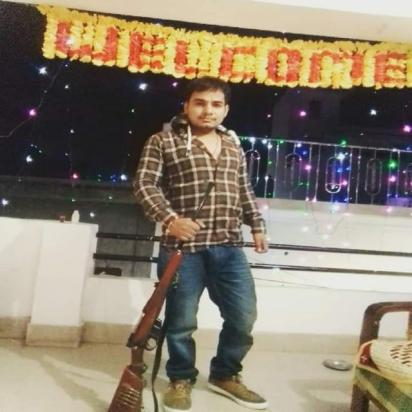Gun: (106, 176, 218, 412)
